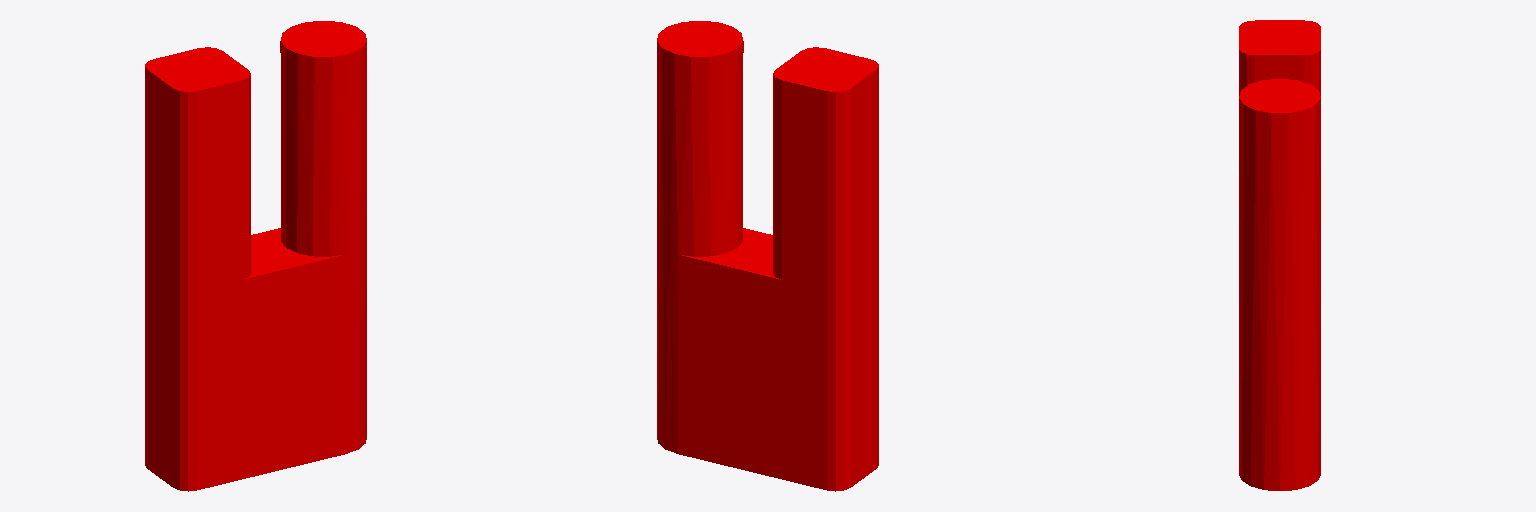
robot.urdf — Medium_Short_SquareCircle_Red:
<?xml version="1.0"?>
<robot name="Medium_Short_SquareCircle_Red">
    <link name="Medium_Short_SquareCircle_Red">
        <visual>
            <geometry>
                <mesh filename="../mesh/factory_insertion/Medium_Short_SquareCircle_Red.obj" scale="0.001 0.001 0.001"/>
            </geometry>
            <material name="Red">
              <color rgba="1.0 0 0 0"/>
            </material>
        </visual>
        <collision>
            <geometry>
                <mesh filename="../mesh/factory_insertion/Medium_Short_SquareCircle_Red.obj" scale="0.001 0.001 0.001"/>
            </geometry>
            <sdf resolution="512"/>
        </collision>
    </link>
</robot>

--- What the picture shows (computed from the rendered views, not written in the file) ---
Views: 3 orthographic renders of the robot side by side, from view 1: azimuth 30°, elevation 25°; view 2: azimuth 150°, elevation 25°; view 3: azimuth 270°, elevation 25°.
Model Medium_Short_SquareCircle_Red with 1 links and 0 joints (none), rooted at Medium_Short_SquareCircle_Red, posed every joint at zero.
Visible links, largest first — view 1: Medium_Short_SquareCircle_Red; view 2: Medium_Short_SquareCircle_Red; view 3: Medium_Short_SquareCircle_Red.
Link boxes in pixels (x1,y1,x2,y2): Medium_Short_SquareCircle_Red: (145,21,366,491); Medium_Short_SquareCircle_Red: (657,21,878,491); Medium_Short_SquareCircle_Red: (1239,20,1320,490).
Bounding box of the posed robot: 0.0528 × 0.0198 × 0.1 m (x, y, z).
1 mesh visuals loaded from 1 distinct referenced files (1 OBJ).
